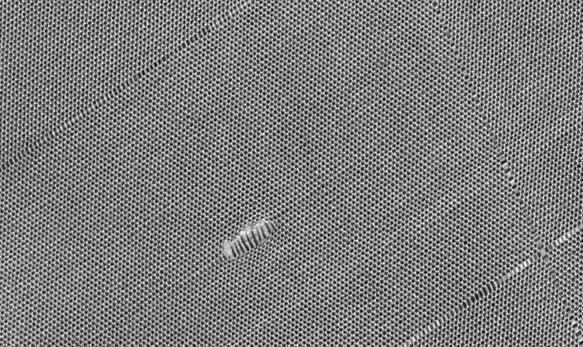slub: (221, 214, 278, 265)
